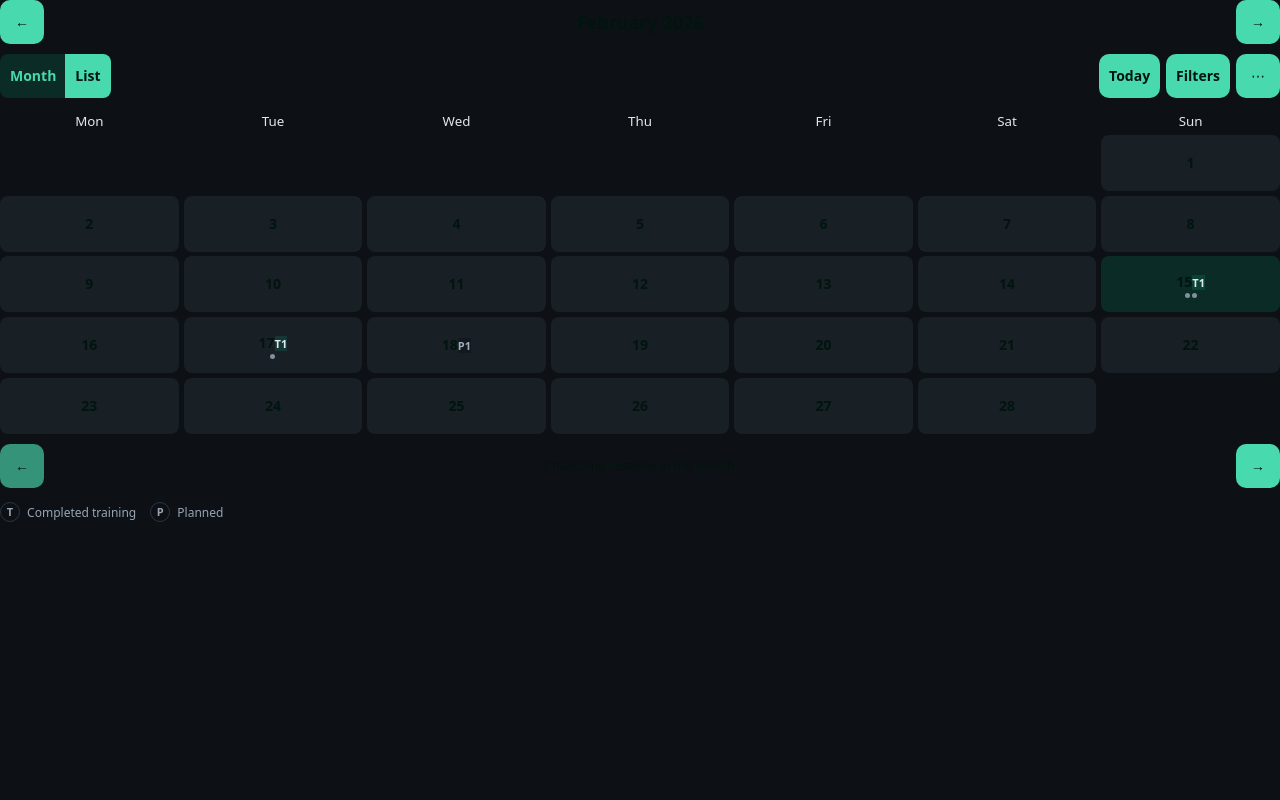
Scenario: shares filters between Month and List and previews the full workout
Click the button with aria-label "Calendar filters". click: click(1198, 76)
box: [1166, 54, 1230, 98]
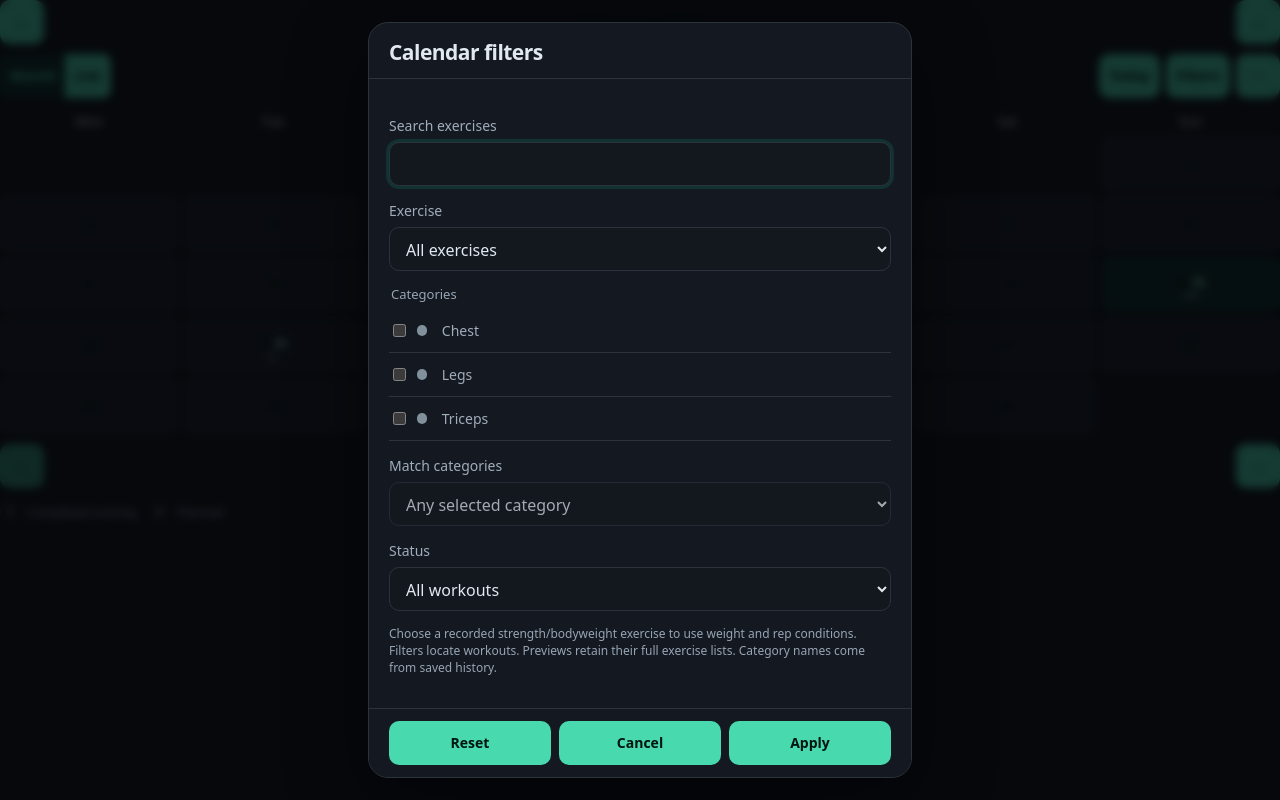
Click the checkbox labelled "Chest". click: click(400, 331)
box: [393, 324, 406, 337]
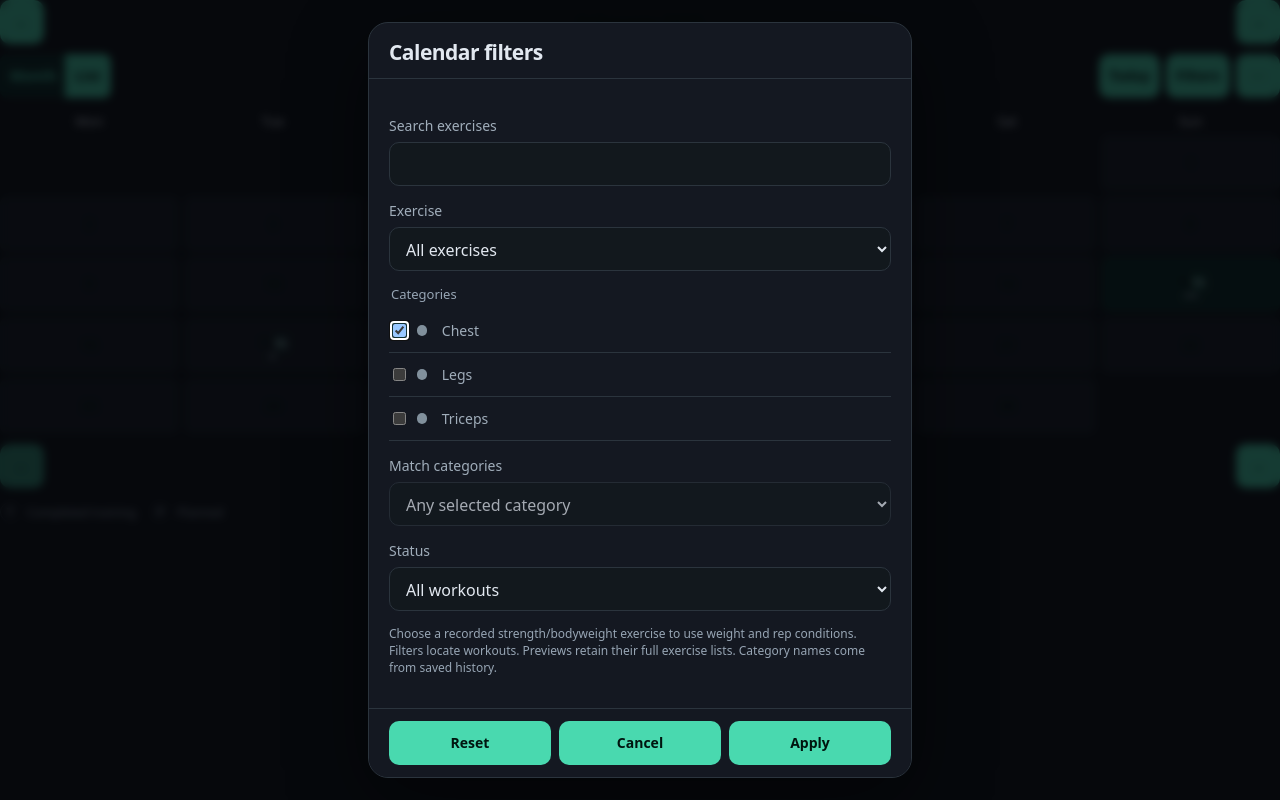
Click the button with aria-label "Apply filters". click: click(810, 743)
box: [729, 721, 891, 765]
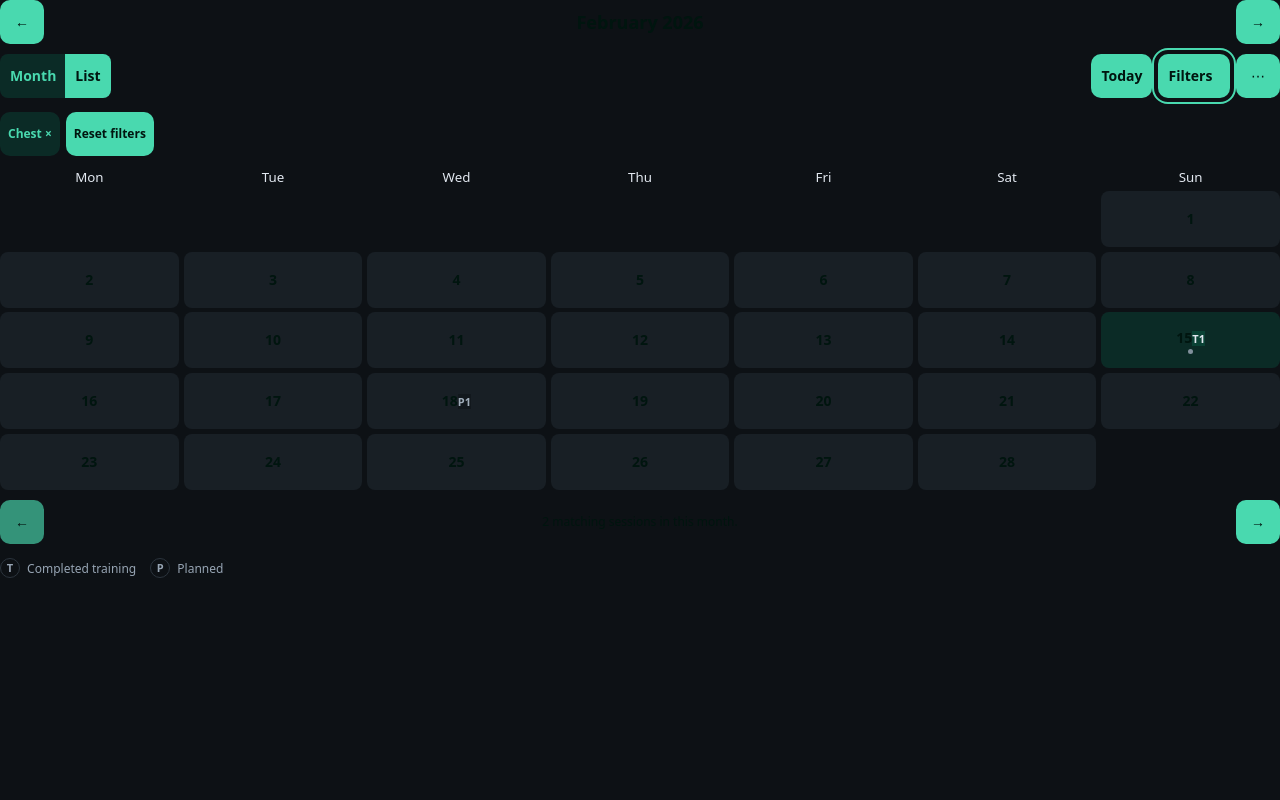
Click the button with aria-label "List view". click: click(88, 76)
box: [65, 54, 110, 98]
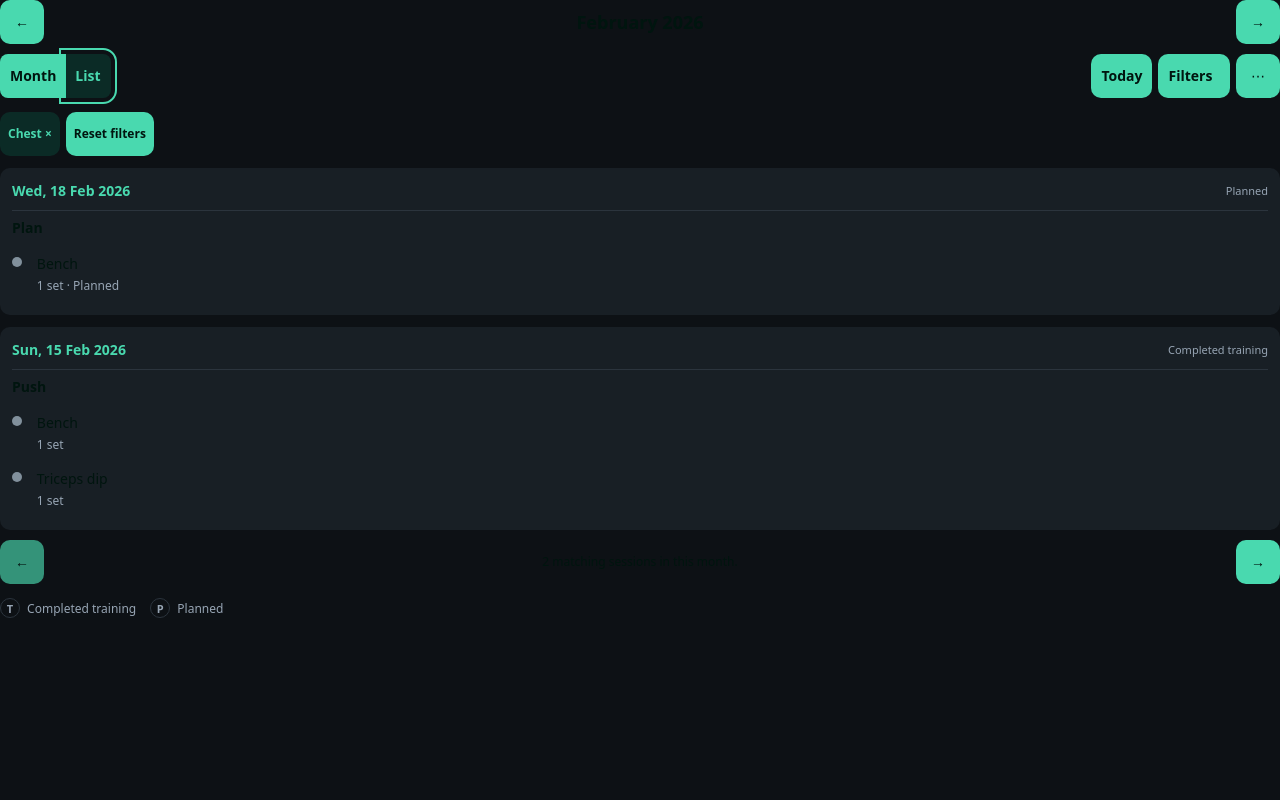
Click the button with aria-label "Preview Push on 2026-02-15". click: click(51, 335)
box: [0, 327, 1279, 530]
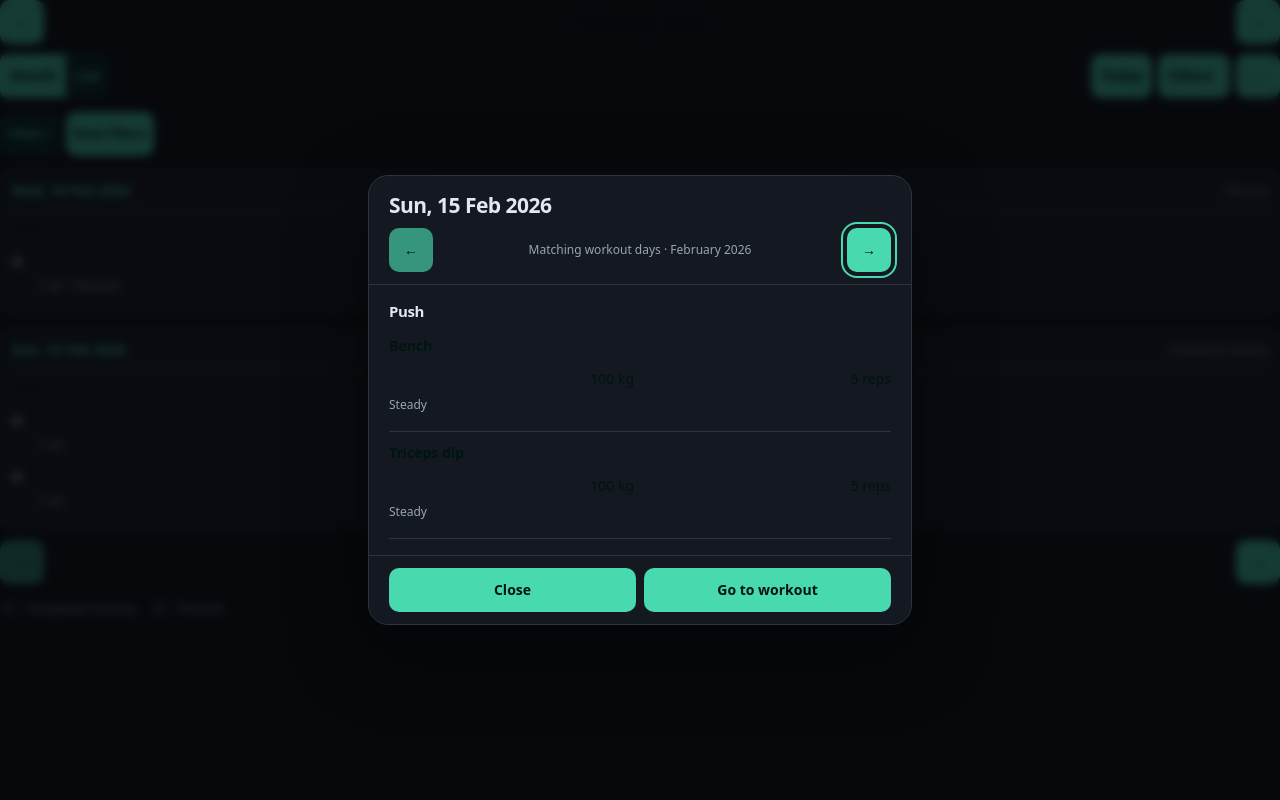
Check: the button "Triceps dip 100 kg 5 reps Steady" is shown, box [389, 432, 891, 539]
